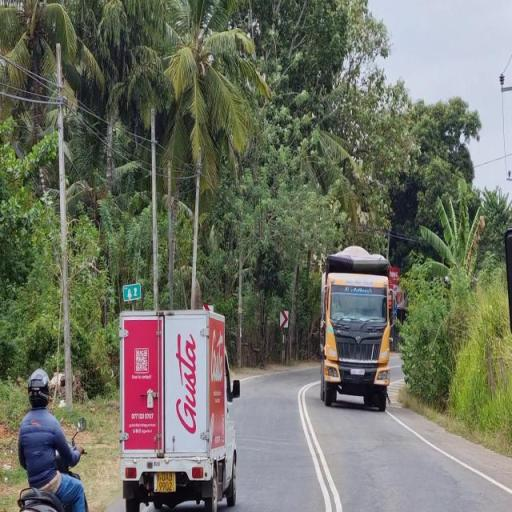double_white_line: (298, 377, 340, 512)
